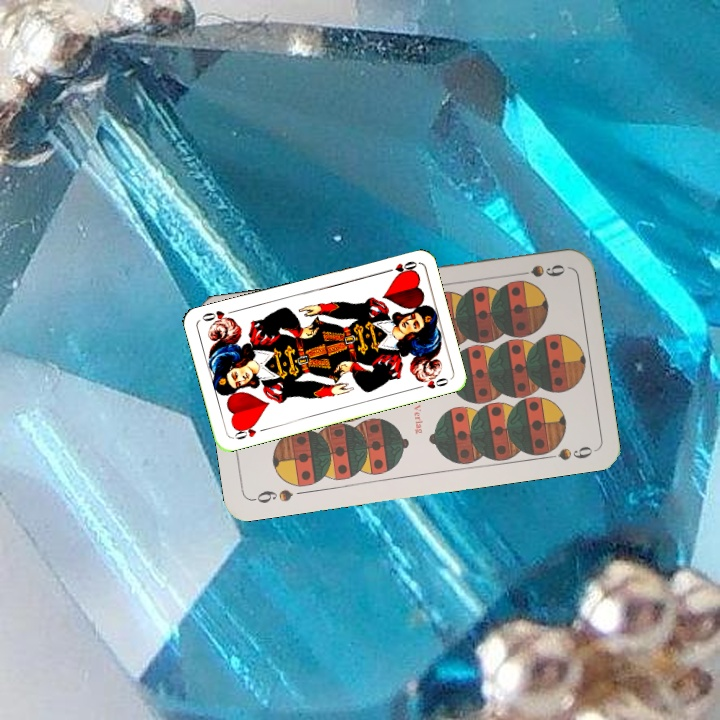HO: (229, 420, 269, 442), (380, 257, 420, 277)
S9: (509, 260, 568, 280), (248, 485, 295, 506)
